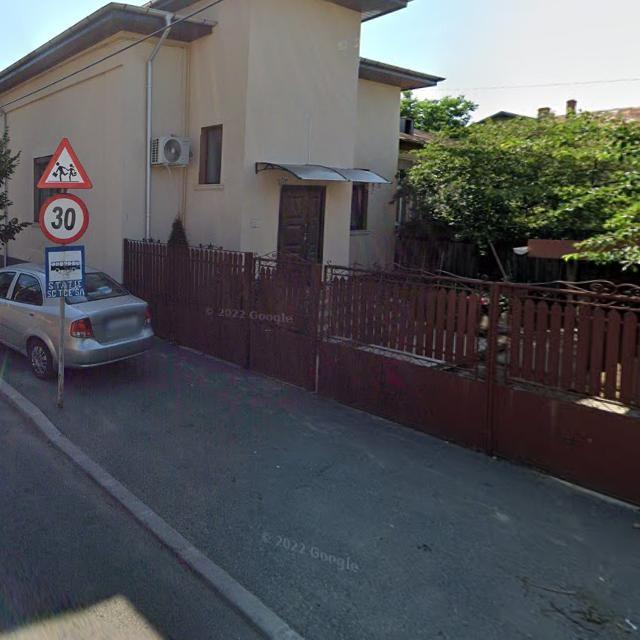forb_speed_over_30: (40, 193, 89, 245)
